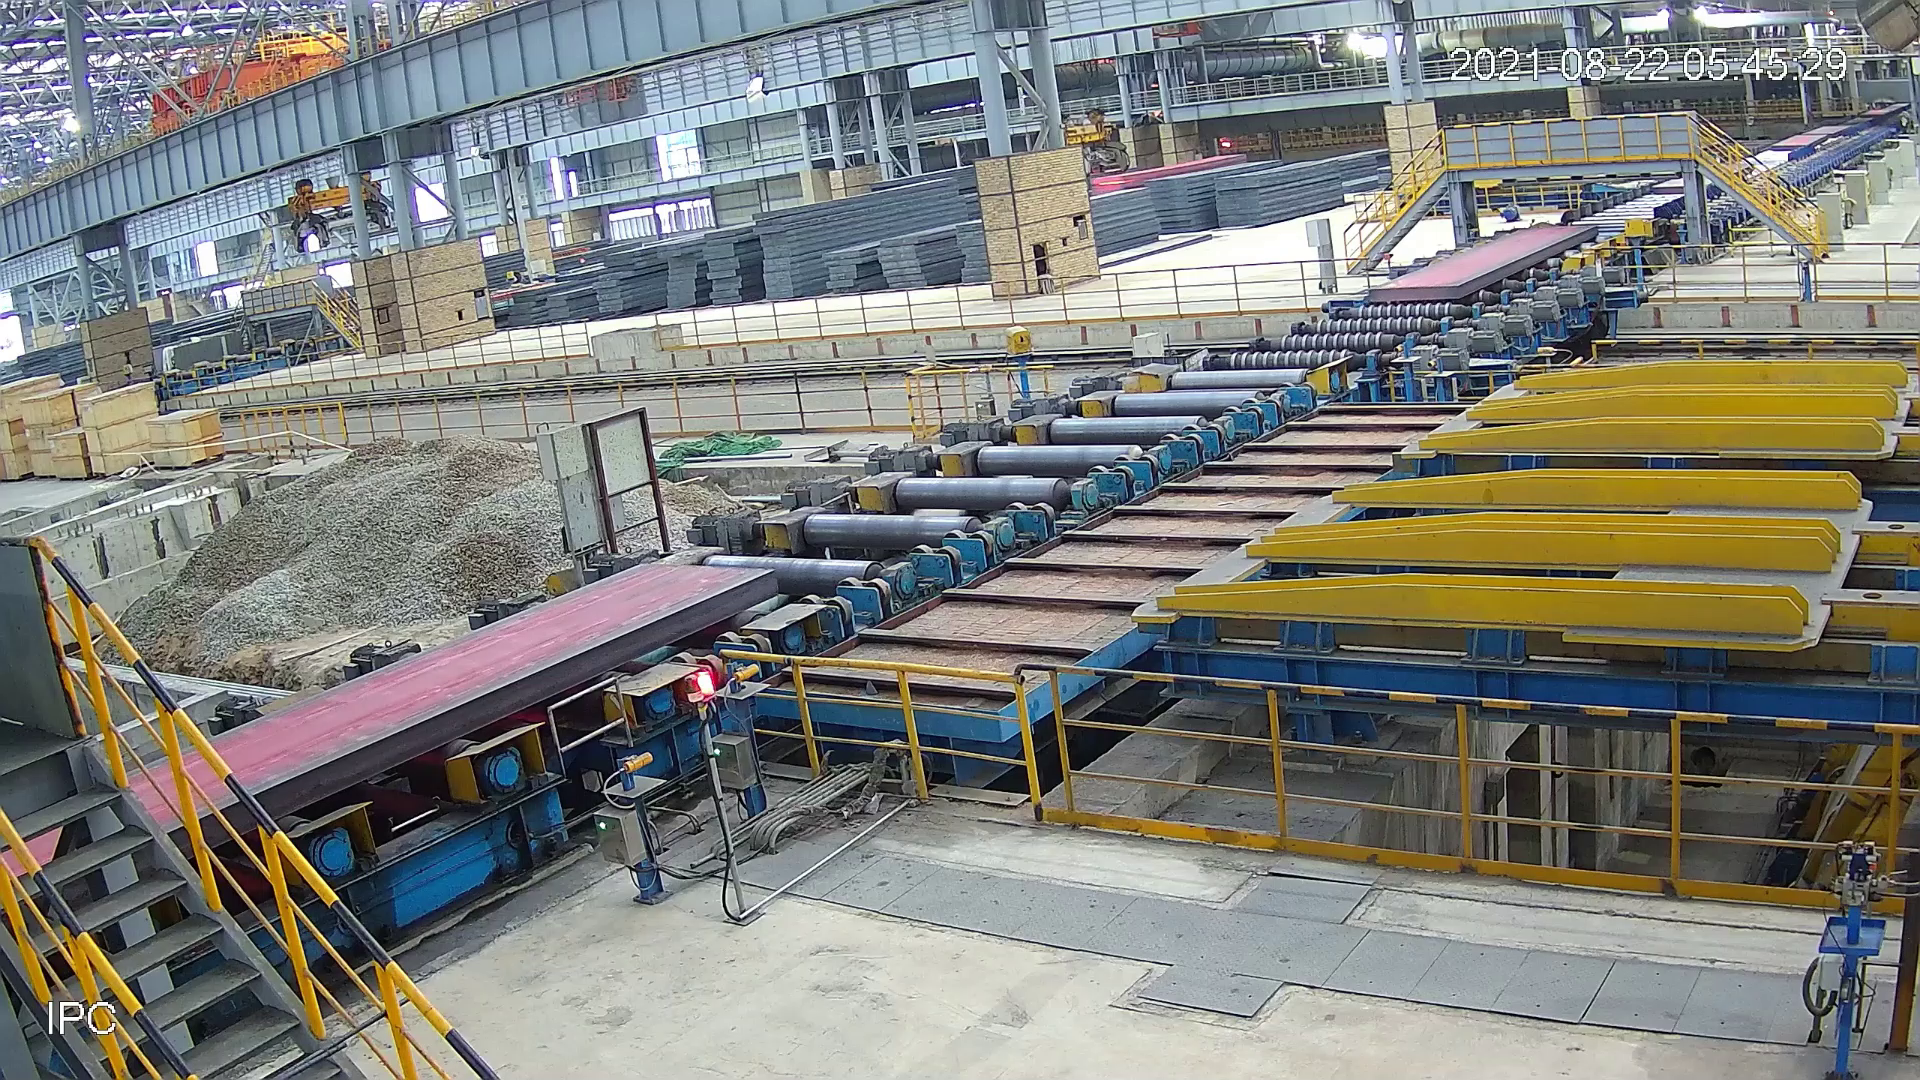slab: (1, 558, 778, 931), (1352, 218, 1607, 301)
